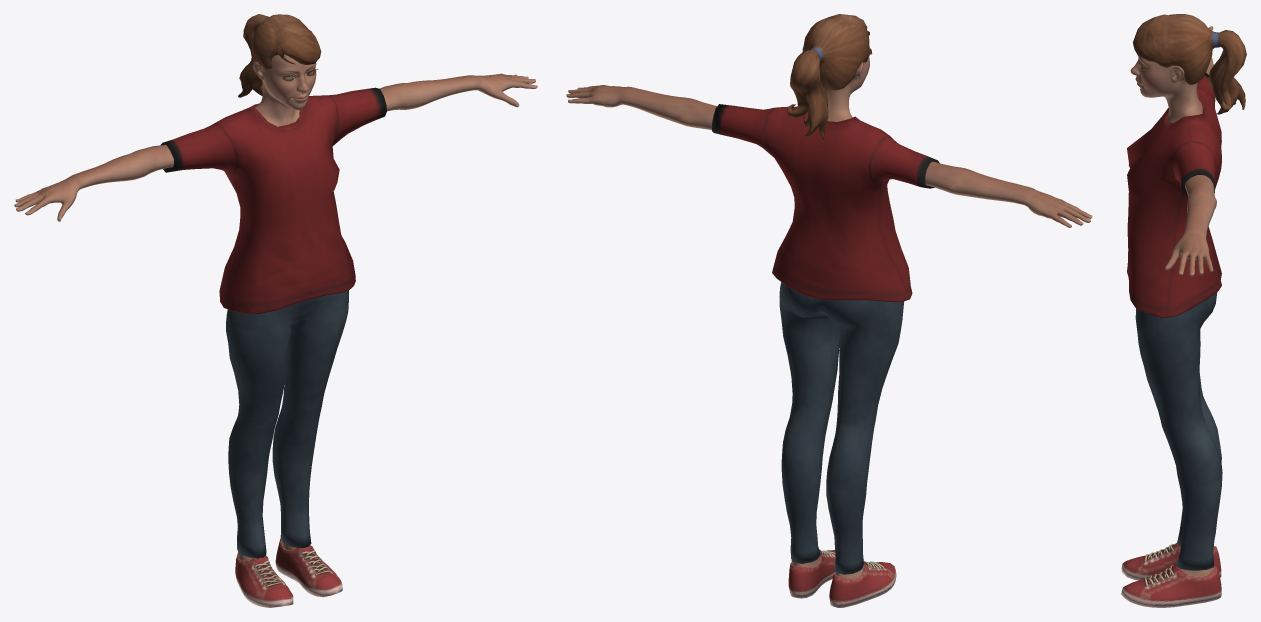
File: Chapter2.obj
The picture shows the model from 3 angles, left to right: view 1: azimuth 30°, elevation 25°; view 2: azimuth 150°, elevation 25°; view 3: azimuth 270°, elevation 25°; orthographic projection.
Visible parts, largest first — view 1: Tops, Bottoms, Body, Shoes, Hair; view 2: Tops, Bottoms, Body, Hair, Shoes; view 3: Tops, Bottoms, Hair, Body, Shoes.
Boxes of the visible parts, x1,y1,x2,y2 form: Tops: [161, 87, 386, 313]; Bottoms: [226, 290, 348, 558]; Body: [14, 54, 537, 560]; Shoes: [235, 539, 342, 607]; Hair: [238, 14, 321, 97]; Tops: [712, 104, 939, 302]; Bottoms: [779, 282, 904, 574]; Body: [566, 46, 1092, 579]; Hair: [787, 14, 869, 139]; Shoes: [788, 549, 896, 607]; Tops: [1127, 73, 1221, 317]; Bottoms: [1135, 292, 1222, 570]; Hair: [1133, 14, 1246, 114]; Body: [1130, 26, 1216, 577]; Shoes: [1121, 543, 1221, 607].
Size of the model in its own units: 1.71 by 1.78 by 0.3559.
Materials: 1 (1 with a texture image).
